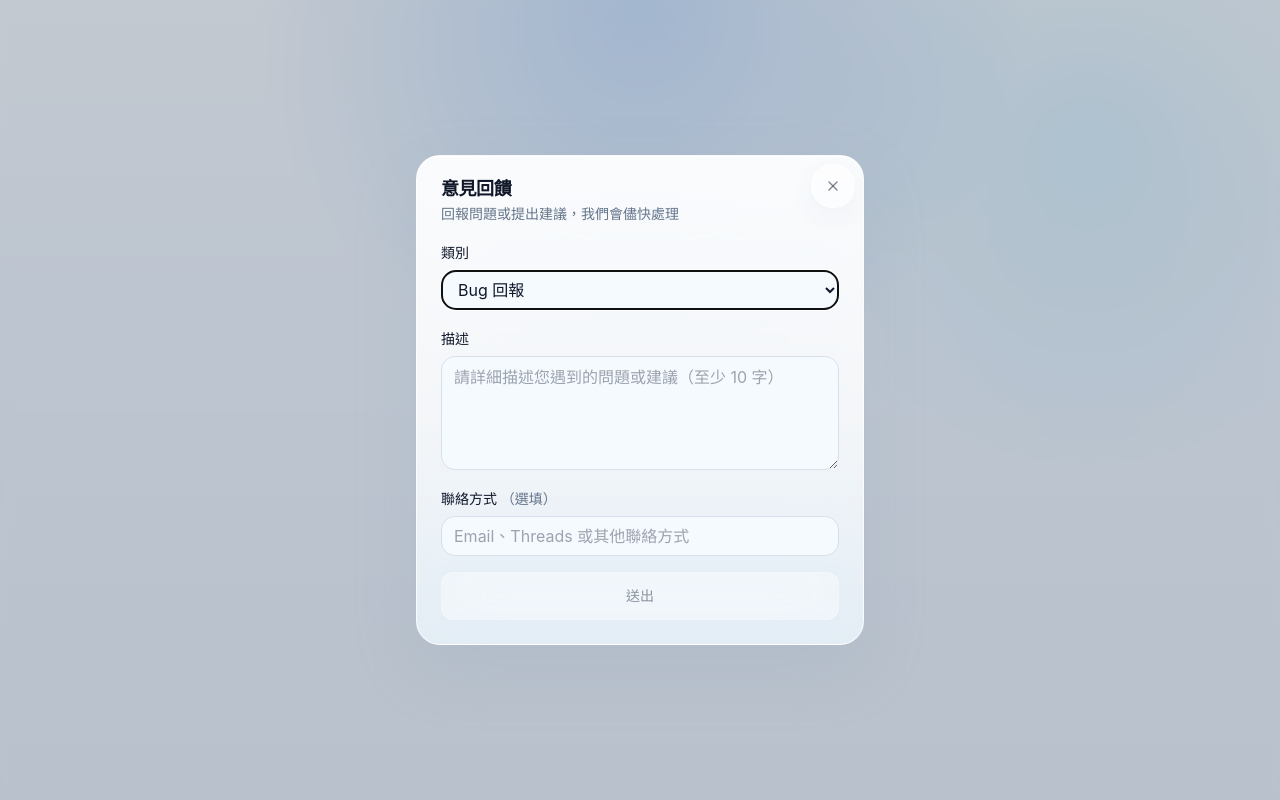
Test: FeedbackModal › 錯誤處理 › 429 → 顯示限流提示
The width and height of the screenshot is (1280, 800).
Type "這個功能有問題，需要修正一下。" into the text box labelled "描述". click: (640, 413)
box: [441,356,839,470]
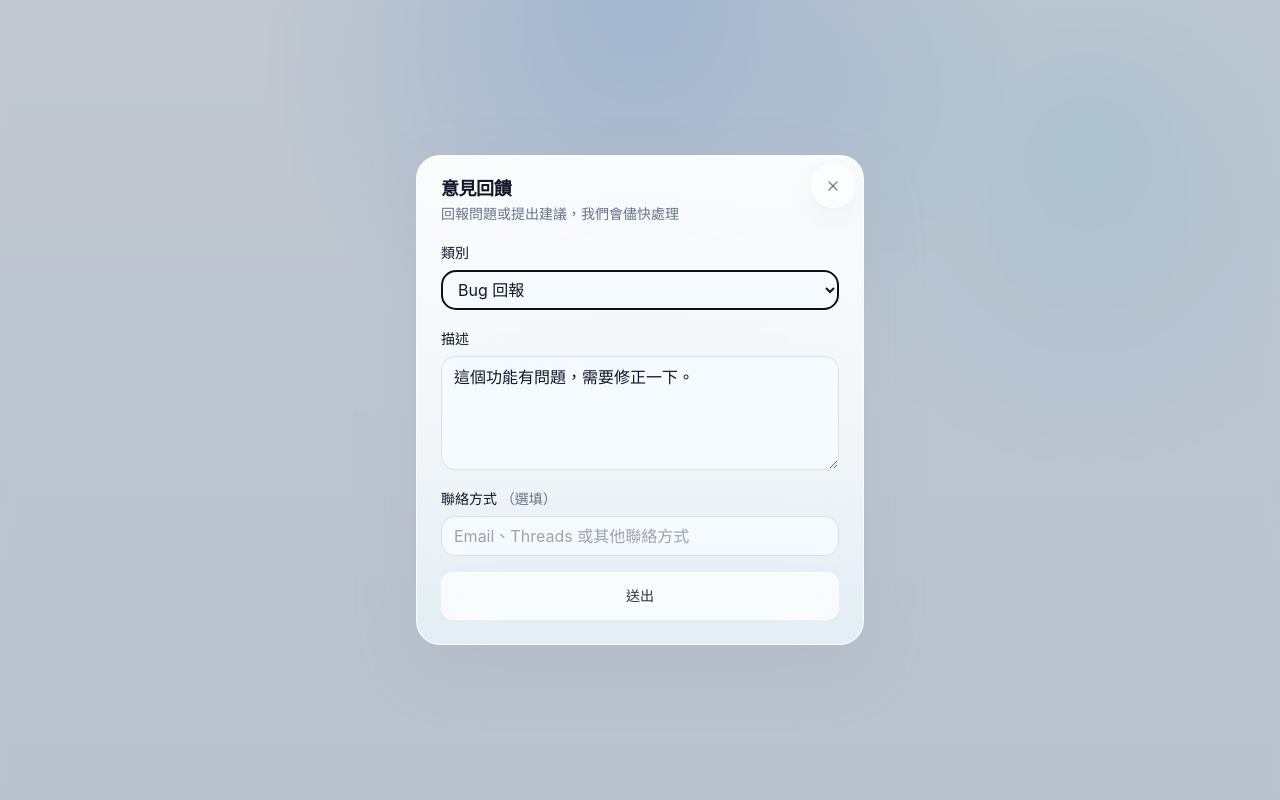
Click the button "送出". click: (640, 596)
box: [441,572,839,620]
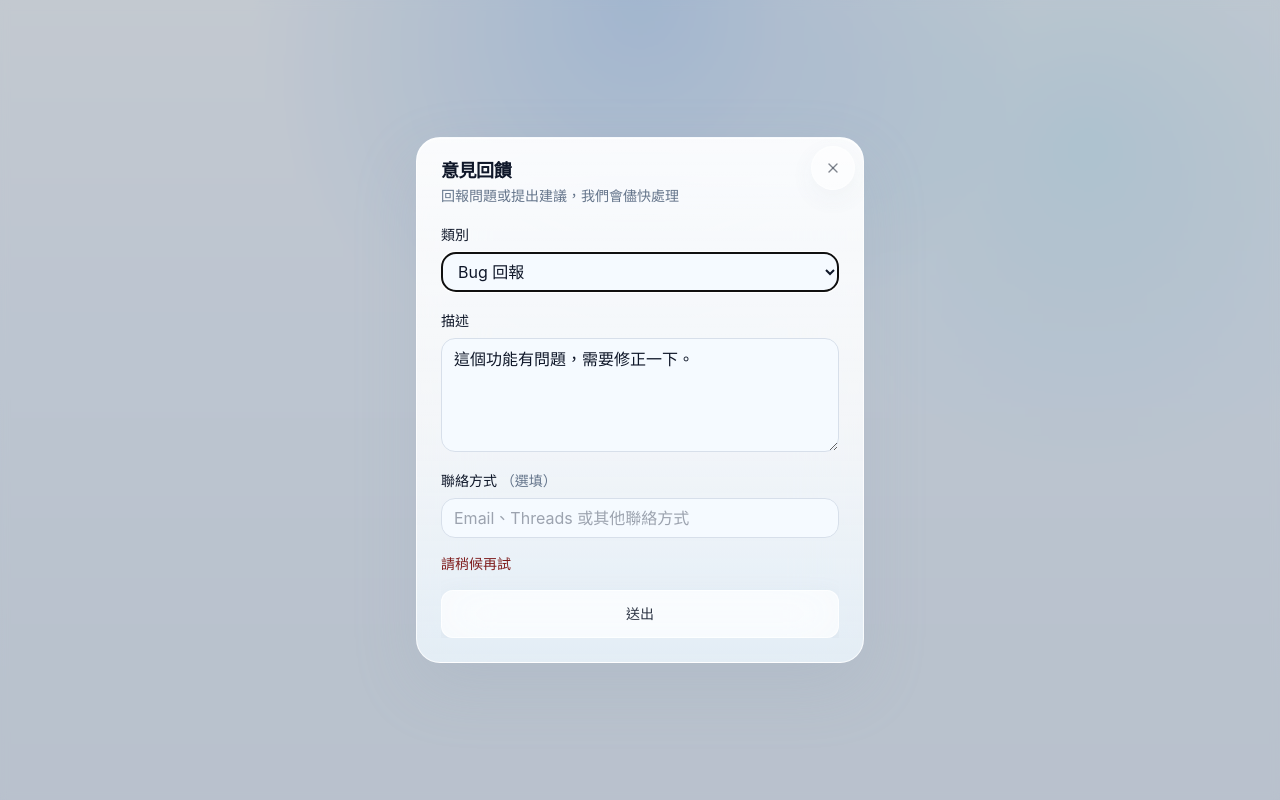
Expected: the text "請稍候再試" is shown, [441,555,511,572]
